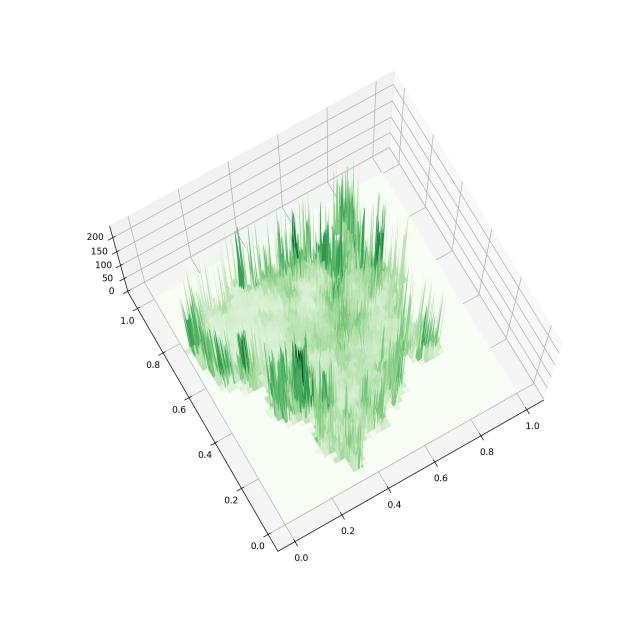pine: (52, 31, 630, 580)
